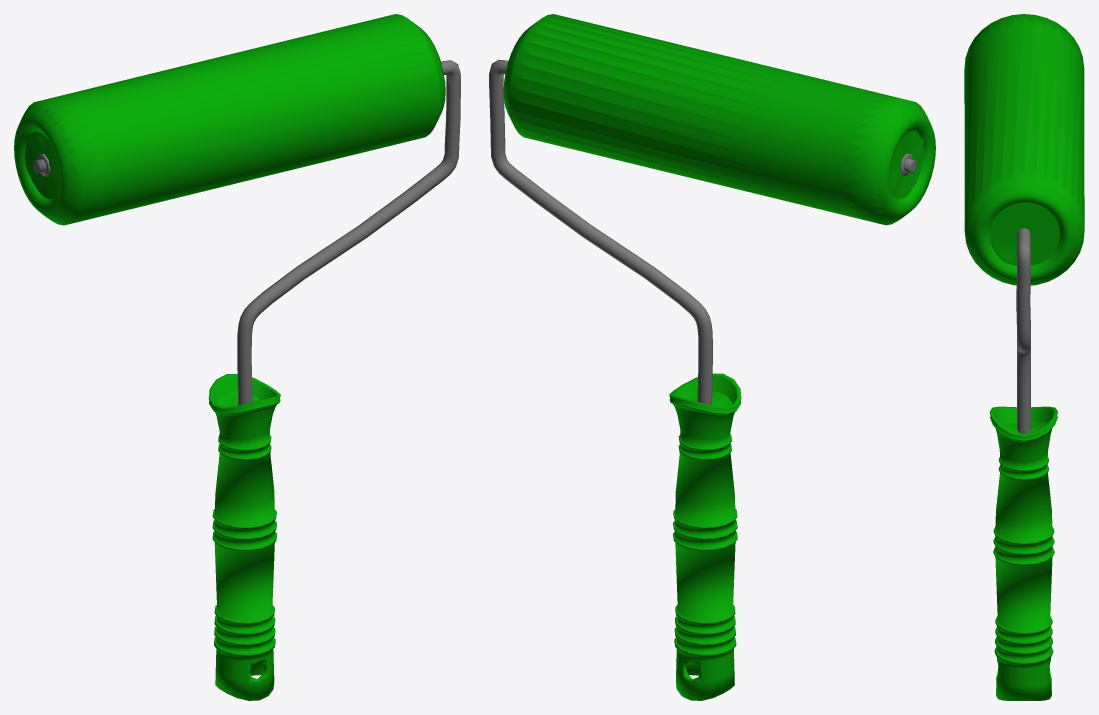
The model's file is pintador_verde.fbx.
3 views of the same model, side by side, from view 1: azimuth 30°, elevation 25°; view 2: azimuth 150°, elevation 25°; view 3: azimuth 270°, elevation 25° (orthographic). The views are drawn at different scales.
Parts seen in each view (by area): view 1: pintador; view 2: pintador; view 3: pintador.
Boxes of the visible parts, x1,y1,x2,y2 form: pintador: (14,14,460,700); pintador: (489,14,935,700); pintador: (964,14,1084,700).
Bounding box in the file's own units: 1.05 × 1.5 × 0.2756.
